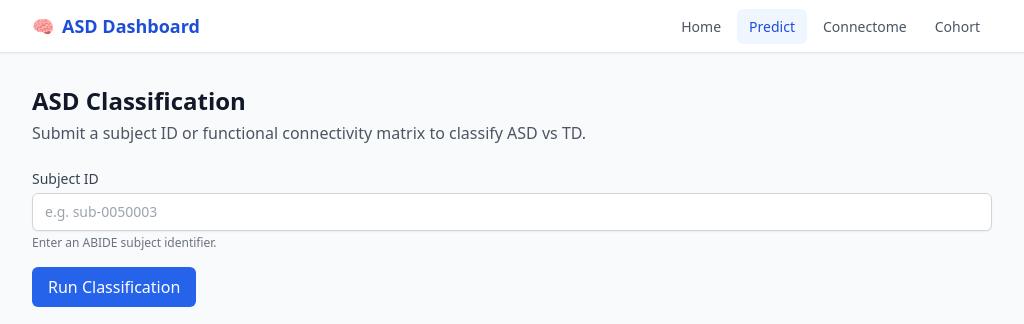
Test: AppRoutes › navigates to /connectome and renders the Connectome page heading
The width and height of the screenshot is (1024, 324).
Click the link "Connectome" at [865, 26], box [823, 17, 907, 36]
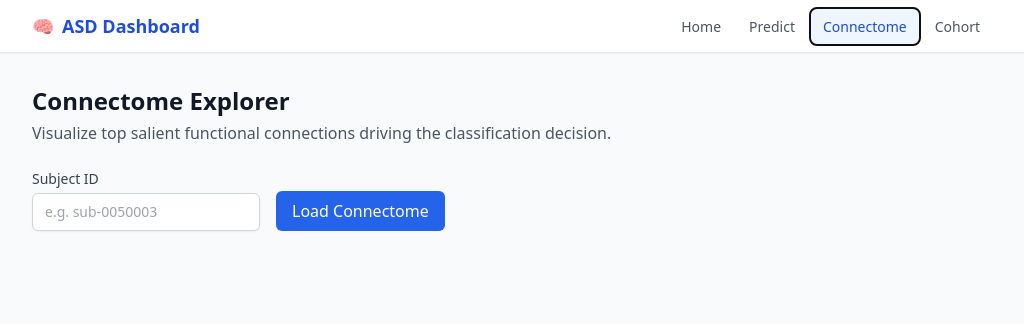
Now the heading "Connectome Explorer" is shown, box [32, 84, 290, 117]
